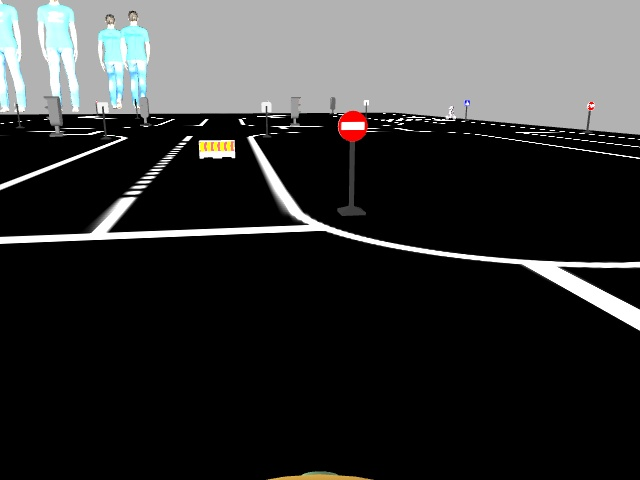ClosedRoadStand: (199, 139, 236, 156)
NoEntry: (338, 112, 366, 140)
